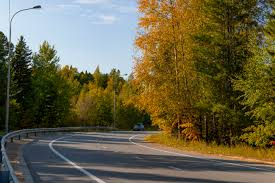plants: (152, 1, 275, 150), (12, 40, 150, 125)
